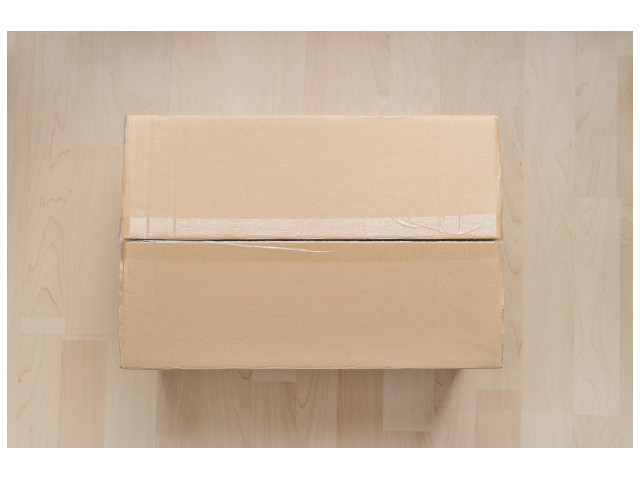cardboard: (124, 116, 500, 364)
